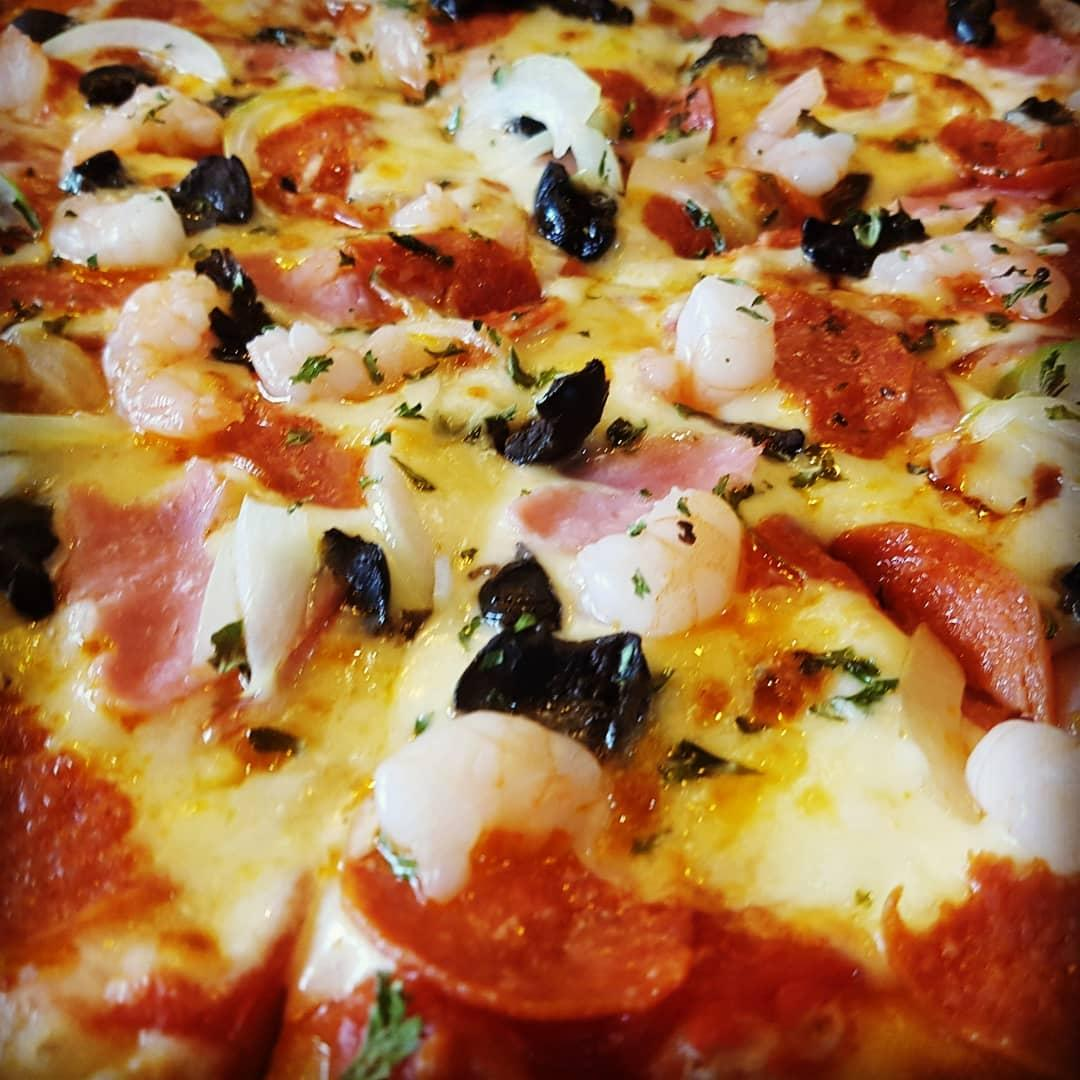Cheese: (821, 741, 1080, 885), (211, 531, 336, 665)
Ham: (78, 498, 241, 705), (601, 421, 767, 514), (521, 458, 654, 565), (261, 251, 396, 325)
Olives: (443, 641, 649, 729), (481, 361, 616, 452), (194, 248, 287, 350), (311, 528, 394, 641), (528, 171, 621, 267), (164, 154, 274, 225), (471, 554, 556, 625), (788, 208, 894, 263), (54, 148, 119, 187)
Pizza: (1, 8, 1080, 1080)
Tomatoes: (334, 841, 685, 1043), (844, 478, 1060, 716), (768, 294, 911, 421), (254, 81, 374, 214), (368, 238, 527, 305), (948, 108, 1051, 192)
